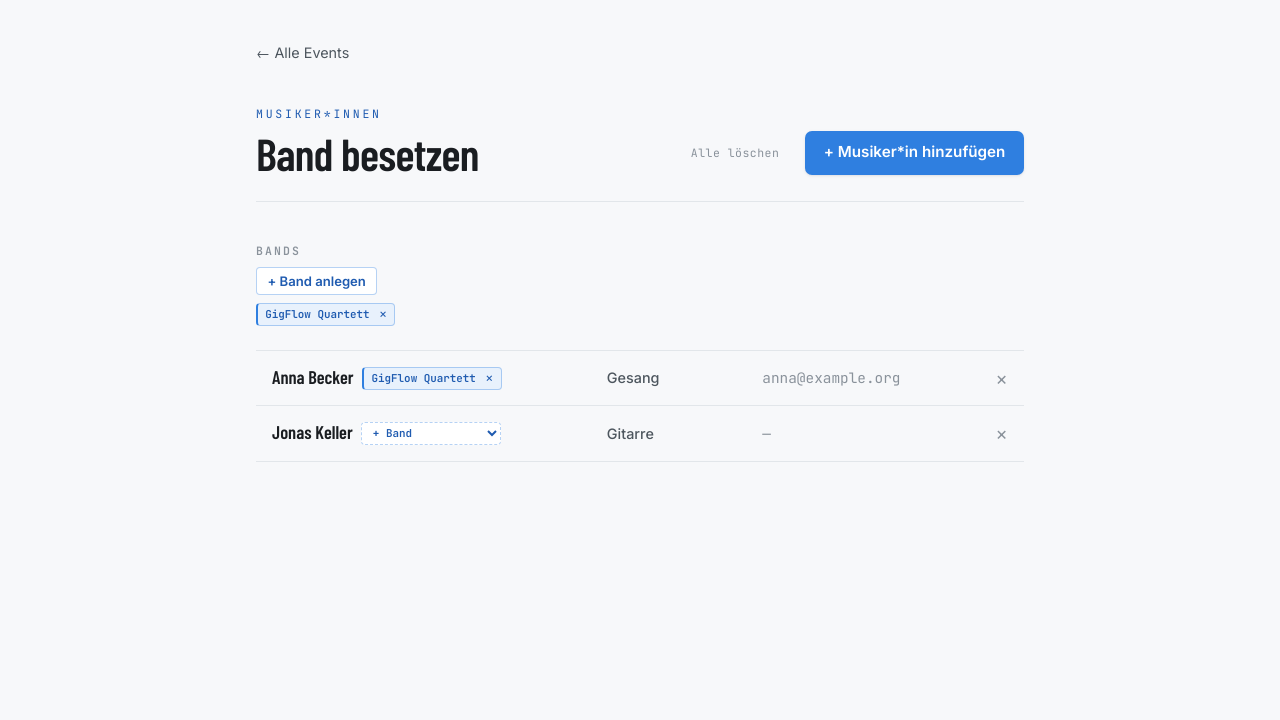
Test: MusicianListComponent › should delete all musicians after confirmation
Click the button with class "head__delete".
click(735, 152)  # box 681,137 -> 789,168
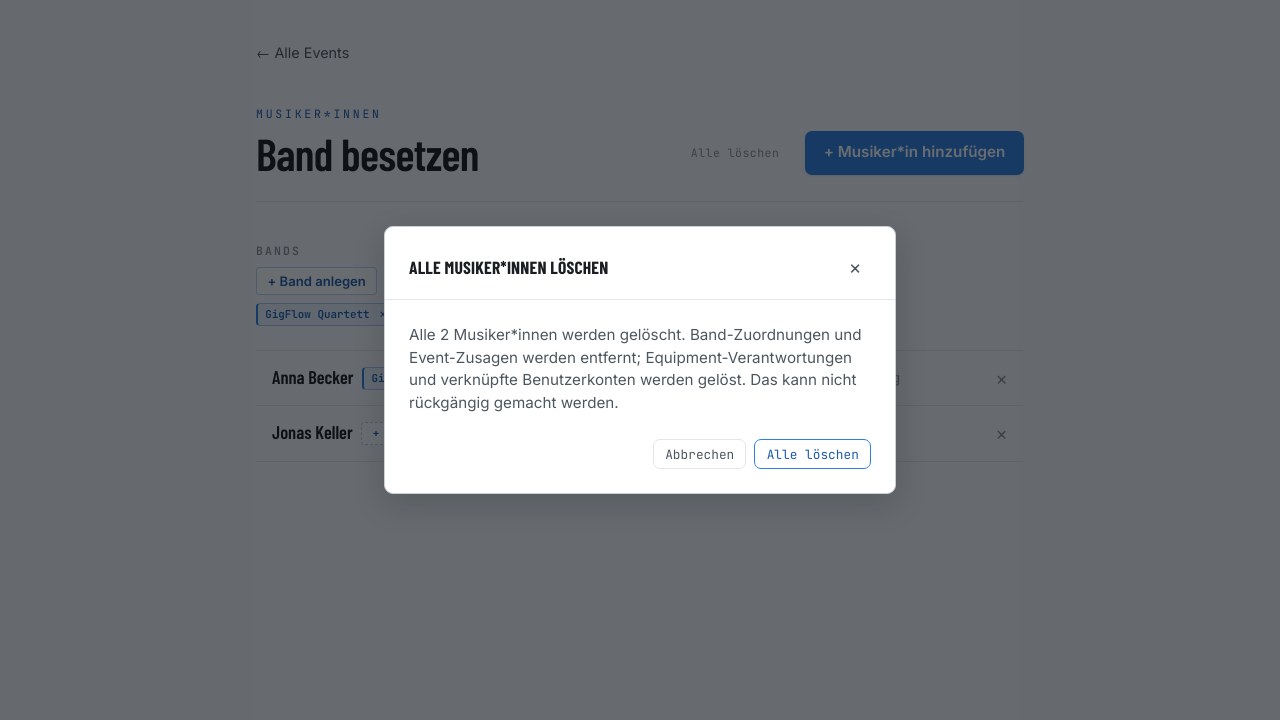
Check: the text "Alle 2 Musiker*innen werden gelöscht." is shown, box 409,325 -> 862,412
Click the button with class "row__confirm-btn--danger".
click(813, 454)  # box 754,439 -> 871,469
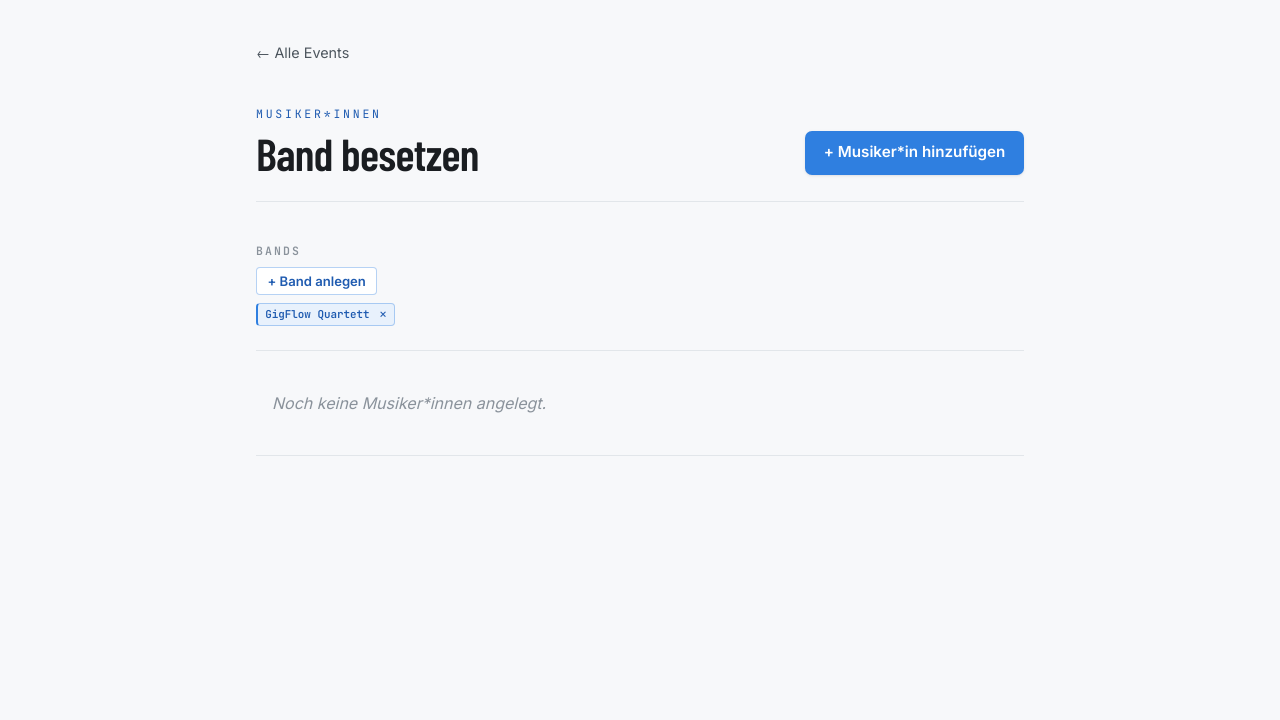
Check: no list items with class "roster__item" are shown
Check: the text "Noch keine Musiker*innen angelegt." is shown, box 256,351 -> 1024,456
Check: the button with class "head__delete" is gone
